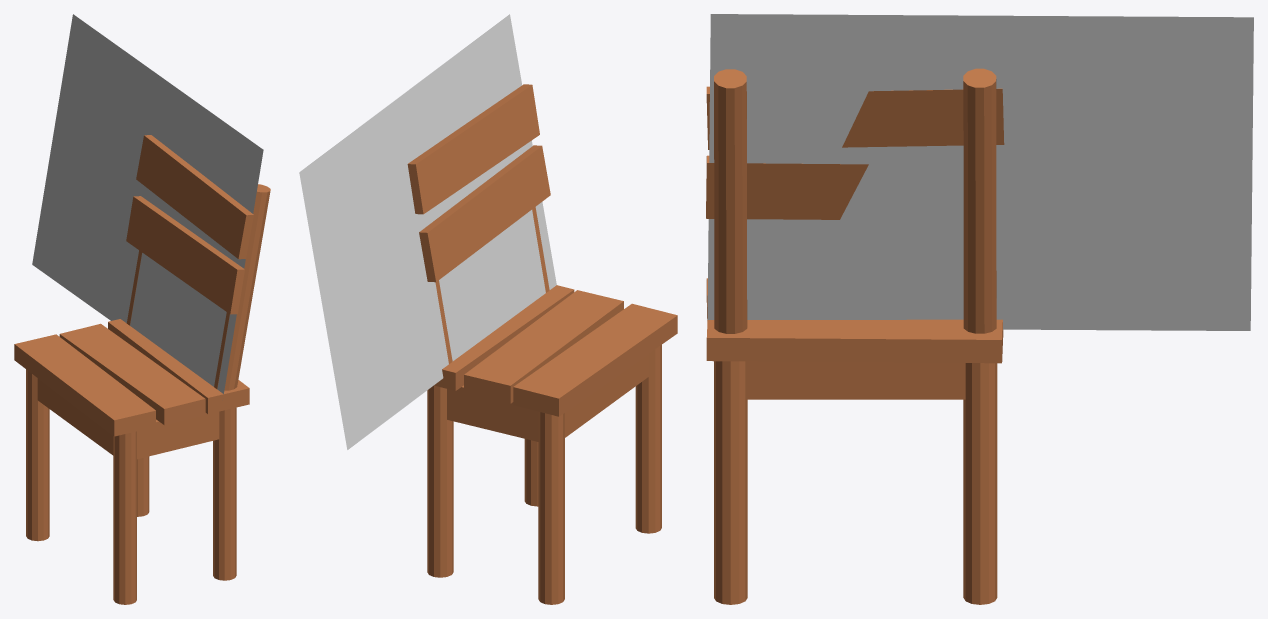
File: 2021-07-06_chair.fbx
3 renders of one model, left to right at view 1: azimuth 30°, elevation 25°; view 2: azimuth 150°, elevation 25°; view 3: azimuth 270°, elevation 25°, orthographic. The views are drawn at different scales.
Parts seen in each view (by area): view 1: Plane, Sit 1, Back 2, Back 1, Sit 2, Leg 2, Base, Leg 1, Leg 3, Top Frame 2, Sit 3, Leg 4; view 2: Plane, Sit 1, Back 1, Back 2, Sit 2, Leg 3, Base, Leg 4, Leg 2, Sit 3, Leg 1; view 3: Plane, Sit 3, Top Frame 1, Top Frame 2, Base, Leg 4, Leg 1, Back 2, Back 1.
Boxes of the visible parts, box(x1,y1,x2,y2) form: Plane: box(32, 14, 263, 393); Sit 1: box(14, 334, 155, 436); Back 2: box(136, 135, 253, 259); Back 1: box(126, 196, 244, 314); Sit 2: box(59, 323, 205, 425); Leg 2: box(113, 431, 136, 604); Base: box(37, 378, 219, 459); Leg 1: box(213, 407, 236, 580); Leg 3: box(26, 369, 49, 541); Top Frame 2: box(214, 184, 270, 390); Sit 3: box(108, 319, 249, 413); Leg 4: box(137, 456, 149, 516); Plane: box(299, 14, 556, 449); Sit 1: box(513, 303, 677, 416); Back 1: box(419, 145, 550, 282); Back 2: box(407, 84, 539, 214); Sit 2: box(464, 290, 623, 403); Leg 3: box(538, 411, 564, 604); Base: box(447, 354, 649, 441); Leg 4: box(427, 385, 453, 577); Leg 2: box(635, 345, 661, 533); Sit 3: box(434, 285, 574, 390); Leg 1: box(524, 439, 538, 506); Plane: box(707, 14, 1253, 330); Sit 3: box(706, 319, 1003, 363); Top Frame 1: box(963, 68, 996, 333); Top Frame 2: box(714, 69, 747, 333); Base: box(745, 361, 965, 399); Leg 4: box(963, 363, 997, 604); Leg 1: box(714, 361, 747, 604); Back 2: box(706, 86, 1004, 149); Back 1: box(706, 155, 868, 219).
Bounding box in the file's own units: 39.75 × 99.21 × 81.29.
